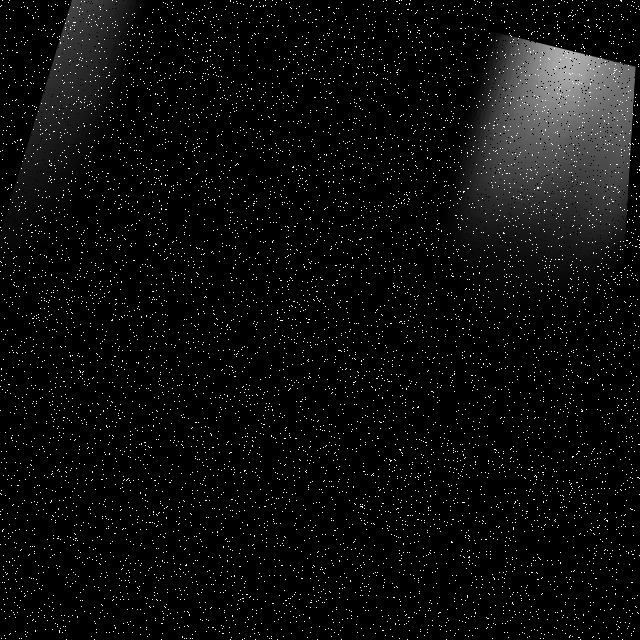person: (409, 31, 639, 372), (1, 1, 166, 404)
